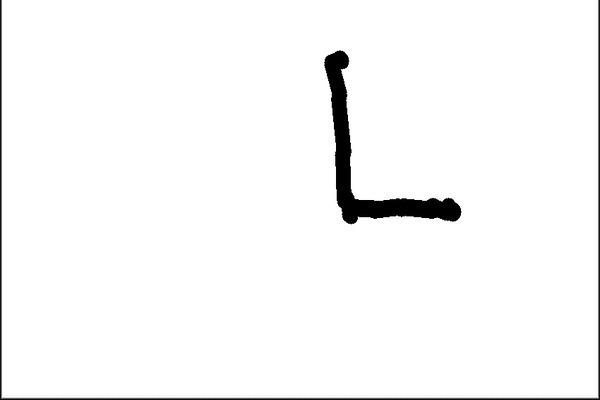L: (318, 46, 466, 230)
